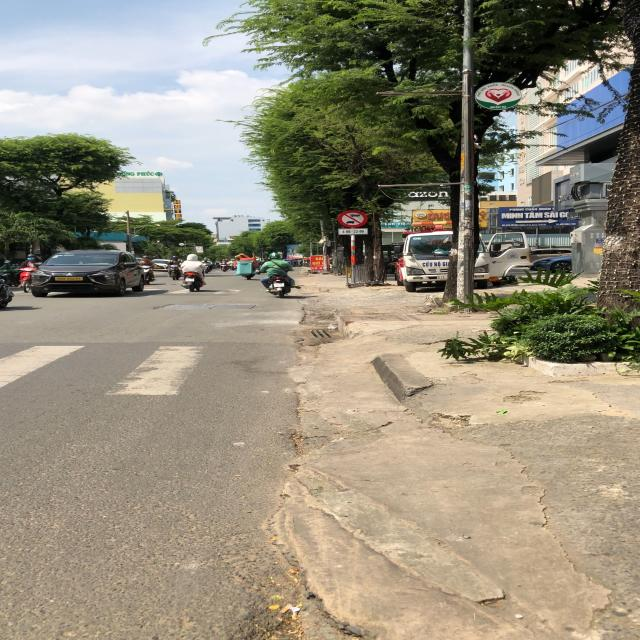Bien bao cam xe oto khach va xe oto tai: (334, 208, 369, 228)
